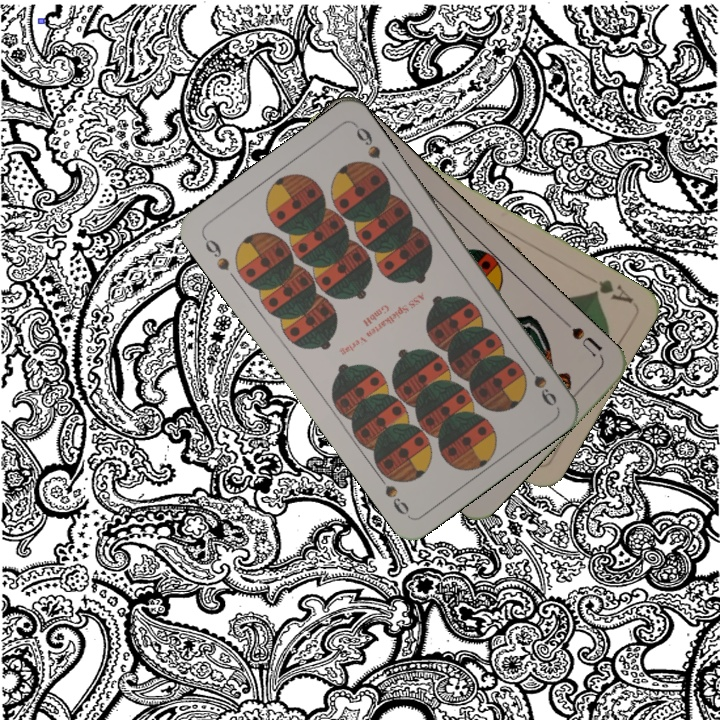GA: (586, 275, 636, 306)
S9: (519, 357, 560, 409), (199, 232, 233, 274)
SU: (559, 315, 606, 361)
